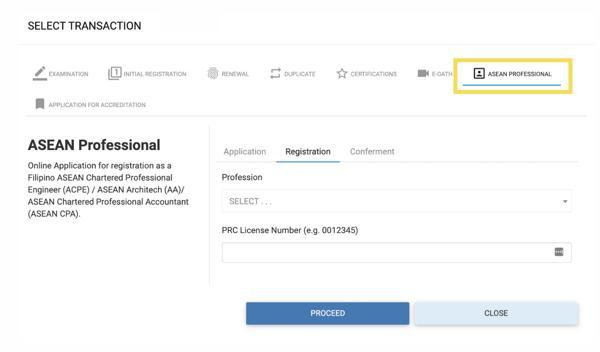button: (415, 303, 580, 328), (247, 303, 411, 326)
dropdown: (221, 186, 576, 216)
icon: (107, 63, 124, 85), (31, 65, 50, 84), (32, 96, 48, 113), (473, 67, 488, 83), (269, 66, 283, 82), (336, 69, 351, 80), (417, 69, 431, 79)
input: (221, 242, 574, 267)
label: (221, 224, 362, 238), (50, 98, 152, 112), (125, 69, 190, 83), (286, 144, 334, 160), (490, 70, 553, 82), (220, 172, 265, 183), (350, 70, 398, 79), (283, 69, 318, 81), (50, 72, 89, 80), (222, 69, 254, 78), (431, 70, 456, 80)
radio: (207, 67, 220, 81)
